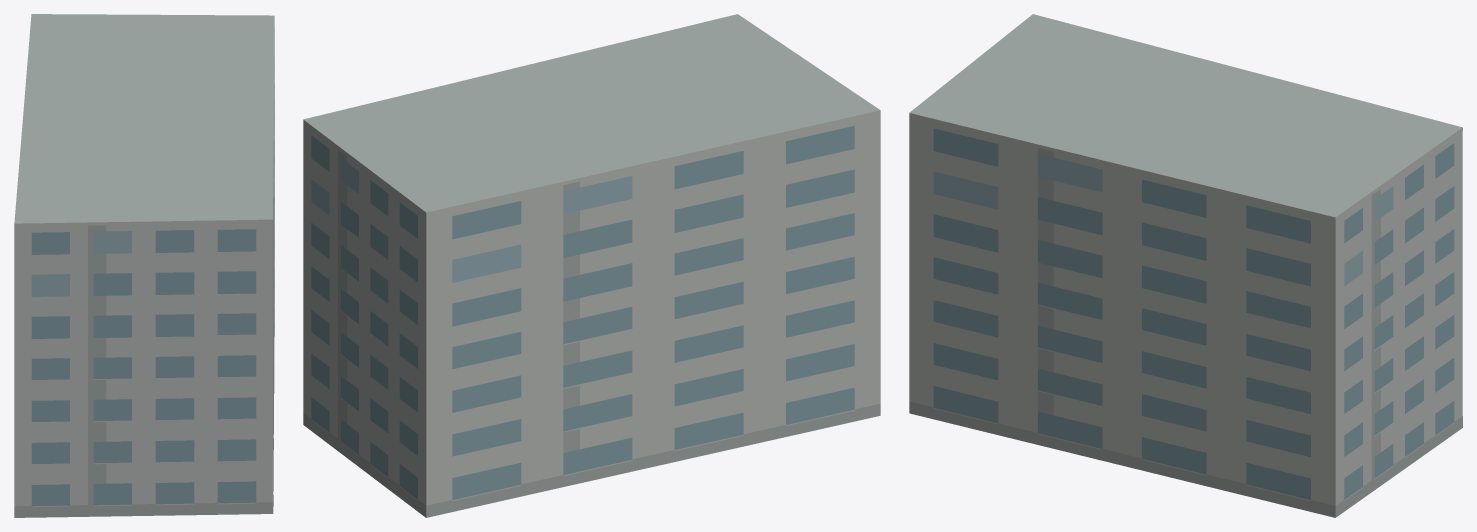
File: residential-6b8c300a-521e-4ac1-86fc-7dc9c2f73bbe.glb
The picture shows the model from 3 angles, left to right: view 1: azimuth 30°, elevation 25°; view 2: azimuth 150°, elevation 25°; view 3: azimuth 270°, elevation 25°; orthographic projection. The views are drawn at different scales.
Parts seen in each view (by area): view 1: residential-6b8c300a-521e-4ac1-86fc-7dc9c2f73bbe.tmp; view 2: residential-6b8c300a-521e-4ac1-86fc-7dc9c2f73bbe.tmp; view 3: residential-6b8c300a-521e-4ac1-86fc-7dc9c2f73bbe.tmp.
Part boxes in pixels (x1,y1,x2,y2): residential-6b8c300a-521e-4ac1-86fc-7dc9c2f73bbe.tmp: (14, 14, 274, 517); residential-6b8c300a-521e-4ac1-86fc-7dc9c2f73bbe.tmp: (303, 14, 880, 517); residential-6b8c300a-521e-4ac1-86fc-7dc9c2f73bbe.tmp: (909, 14, 1462, 517).
Size of the model in its own units: 31.01 by 21.35 by 35.65.
